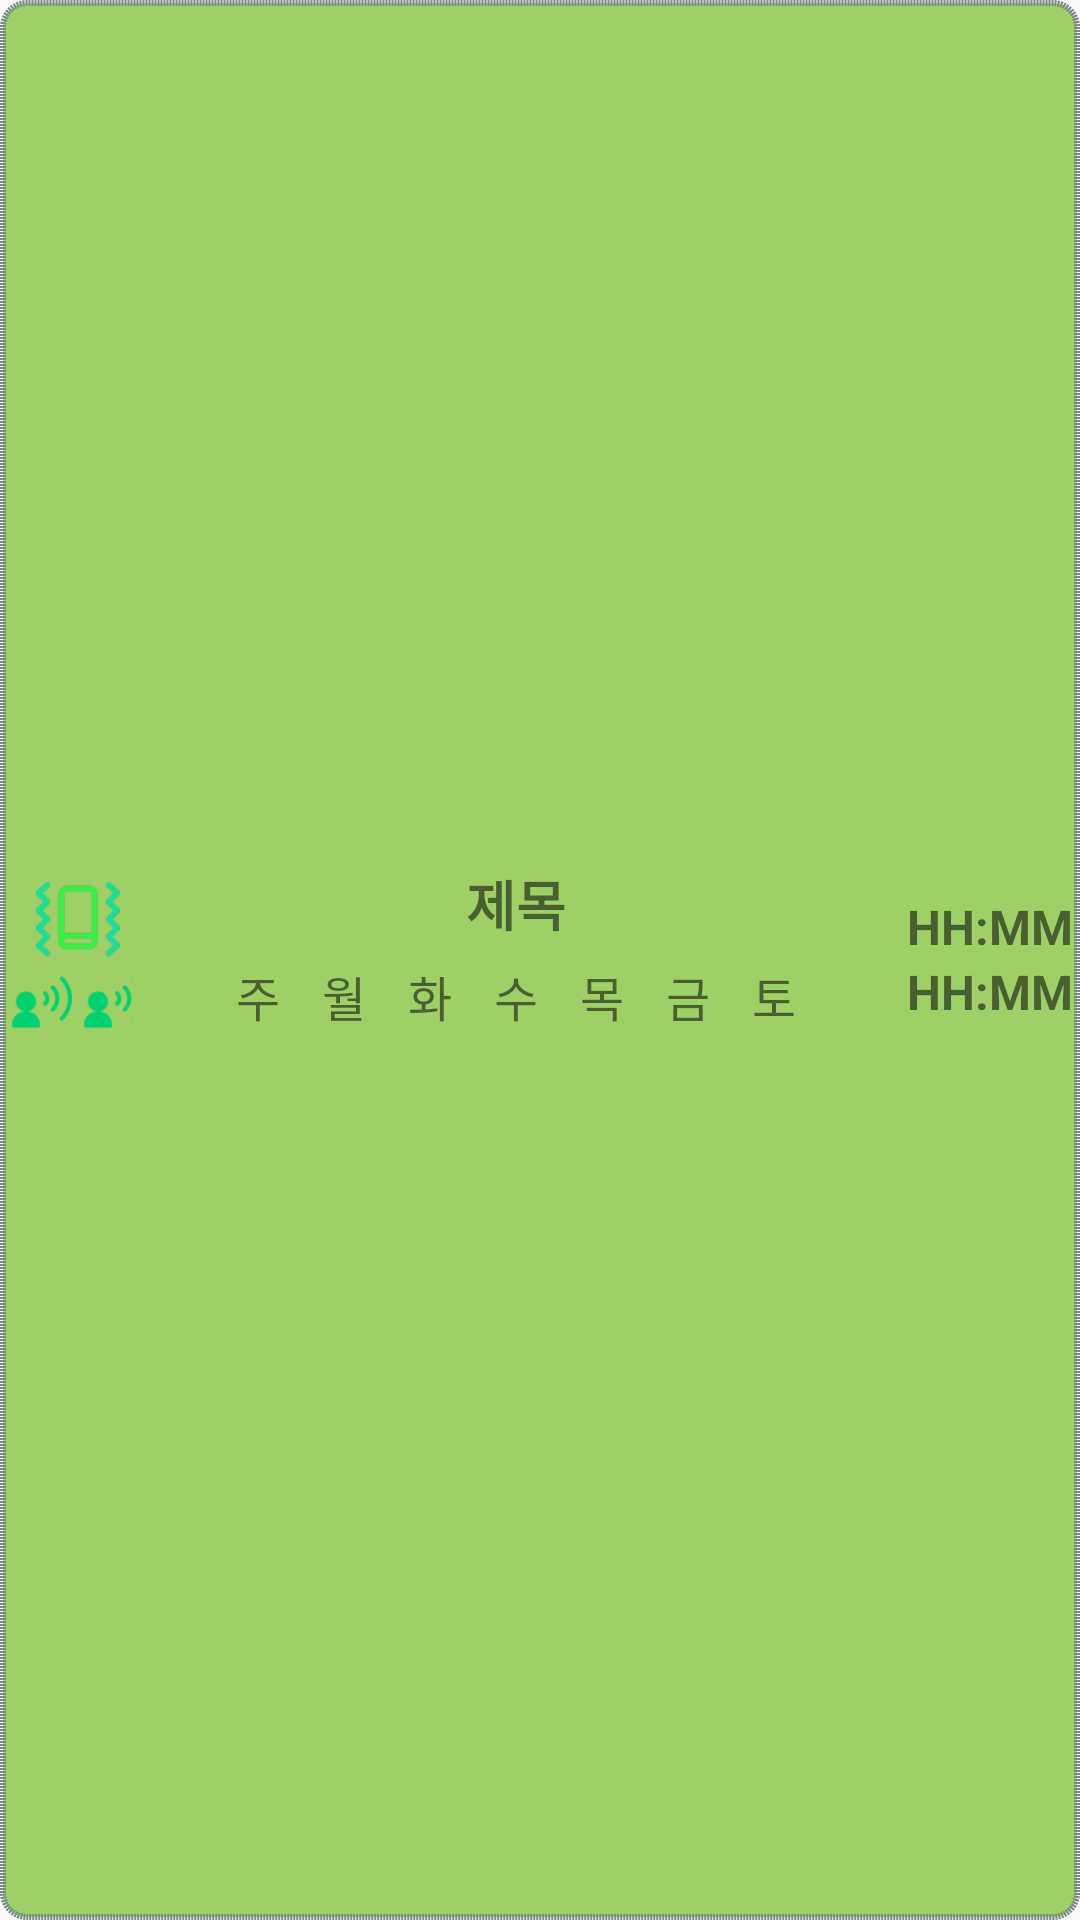

Icon click points for this 1080px x 1920px phone screenshot, format [x,y]:
phone vibrate: [78,919]
